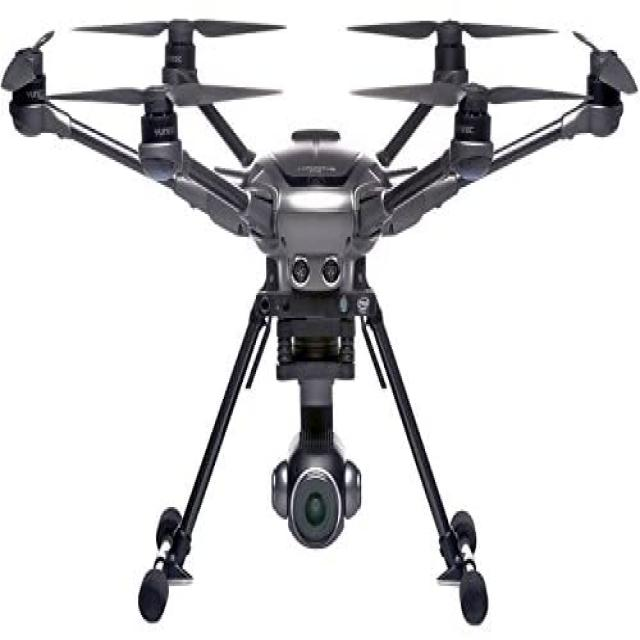drone: (0, 2, 640, 514)
